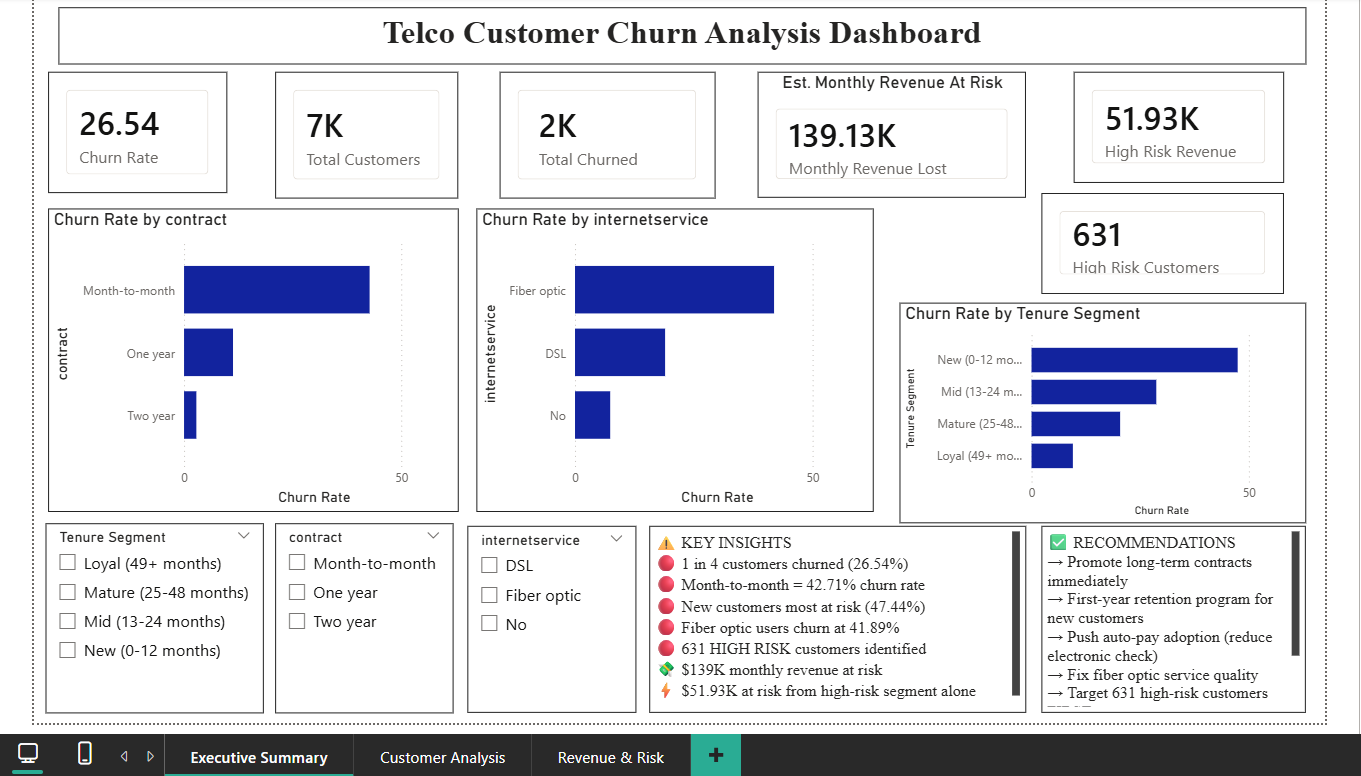

The page's visual inventory and layout, read from the dashboard file:
{"tool":"powerbi","page":{"name":"Executive Summary","canvas":[1280,720],"ordinal":0},"visuals":[{"type":"cardVisual","fields":{"Data":["public telco_churn.Churn Rate"]},"box":[14.1,74.2,177.8,120.2],"z":0},{"type":"clusteredBarChart","fields":{"Category":["public telco_churn.contract"],"Y":["public telco_churn.Churn Rate"]},"box":[14.1,209.8,406.7,300.6],"z":1000},{"type":"clusteredBarChart","fields":{"Category":["public telco_churn.internetservice"],"Y":["public telco_churn.Churn Rate"]},"box":[438.7,209.8,393.9,300.6],"z":2000},{"type":"cardVisual","fields":{"Data":["public telco_churn.Total Customers"]},"box":[239.2,74.2,181.6,125.3],"z":3000},{"type":"cardVisual","fields":{"Data":["public telco_churn.Total Churned"]},"box":[461.7,74.2,213.6,125.3],"z":4000},{"type":"cardVisual","title":"Est. Monthly Revenue At Risk","fields":{"Data":["public telco_churn.Monthly Revenue Lost"]},"box":[717.6,74.4,266.1,124.9],"z":5000},{"type":"clusteredBarChart","fields":{"Category":["public telco_churn.Tenure Segment"],"Y":["public telco_churn.Churn Rate"]},"box":[858.2,303.1,402.9,218.7],"z":6000},{"type":"slicer","fields":{"Values":["public telco_churn.contract"]},"box":[239.2,521.8,176.5,188],"z":7000},{"type":"slicer","fields":{"Values":["public telco_churn.Tenure Segment"]},"box":[11.5,521.8,216.2,188],"z":8000},{"type":"slicer","fields":{"Values":["public telco_churn.internetservice"]},"box":[429.8,524.4,167.6,185.5],"z":9000},{"type":"textbox","box":[24.3,10.2,1236.8,56.3],"z":10000},{"type":"textbox","box":[610.1,524.4,373.5,185.5],"z":11000},{"type":"textbox","box":[998.9,524.4,262.2,185.5],"z":12000},{"type":"cardVisual","fields":{"Data":["public telco_churn.High Risk Customers"]},"box":[998.9,194.4,240.5,99.8],"z":13000},{"type":"cardVisual","fields":{"Data":["public telco_churn.High Risk Revenue"]},"box":[1030.9,74.2,208.5,110],"z":14000}]}

Visuals, with their boxes in screenshot pixels (x1, y1, x2, y2):
cardVisual - public telco_churn.Churn Rate: [43,72,222,193]
clusteredBarChart - public telco_churn.contract x public telco_churn.Churn Rate: [43,209,454,513]
clusteredBarChart - public telco_churn.internetservice x public telco_churn.Churn Rate: [472,209,870,513]
cardVisual - public telco_churn.Total Customers: [270,72,454,198]
cardVisual - public telco_churn.Total Churned: [495,72,711,198]
"Est. Monthly Revenue At Risk" cardVisual: [754,72,1023,198]
clusteredBarChart - public telco_churn.Tenure Segment x public telco_churn.Churn Rate: [896,303,1304,524]
slicer - public telco_churn.contract: [270,524,449,714]
slicer - public telco_churn.Tenure Segment: [40,524,259,714]
slicer - public telco_churn.internetservice: [463,527,633,714]
textbox: [53,7,1304,64]
textbox: [645,527,1023,714]
textbox: [1039,527,1304,714]
cardVisual - public telco_churn.High Risk Customers: [1039,193,1282,294]
cardVisual - public telco_churn.High Risk Revenue: [1071,72,1282,183]
